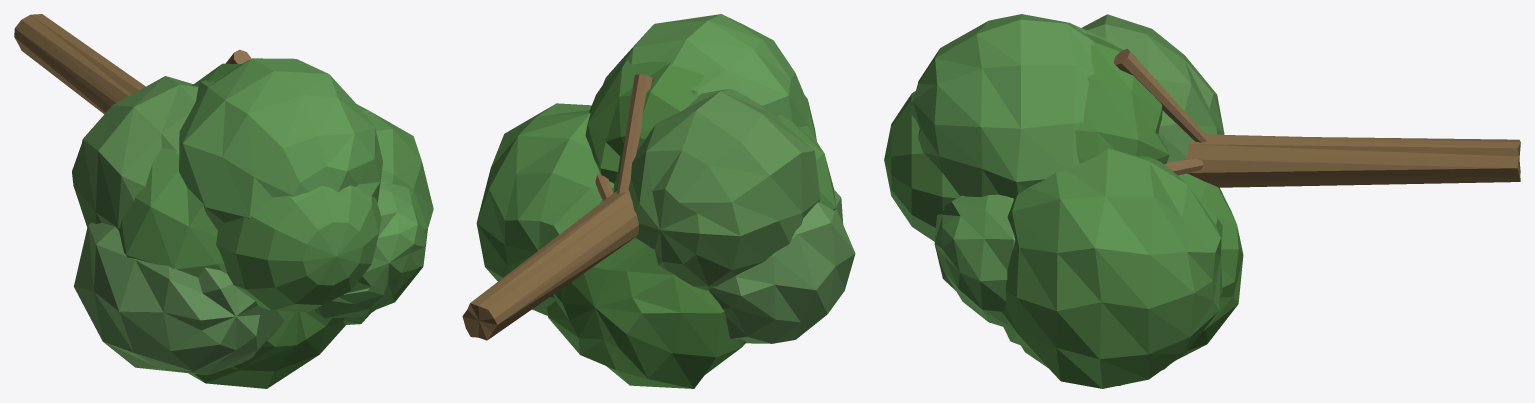
The model's file is oak_tree.glb.
3 renders of one model, left to right at view 1: azimuth 30°, elevation 25°; view 2: azimuth 150°, elevation 25°; view 3: azimuth 270°, elevation 25°, orthographic. The views are drawn at different scales.
Visible parts, largest first — view 1: geometry_0; view 2: geometry_0; view 3: geometry_0.
Part boxes in pixels (x1,y1,x2,y2): geometry_0: (14, 14, 433, 388); geometry_0: (462, 14, 855, 388); geometry_0: (884, 14, 1520, 388).
Bounding box in the file's own units: 2.97 × 2.86 × 4.71.
